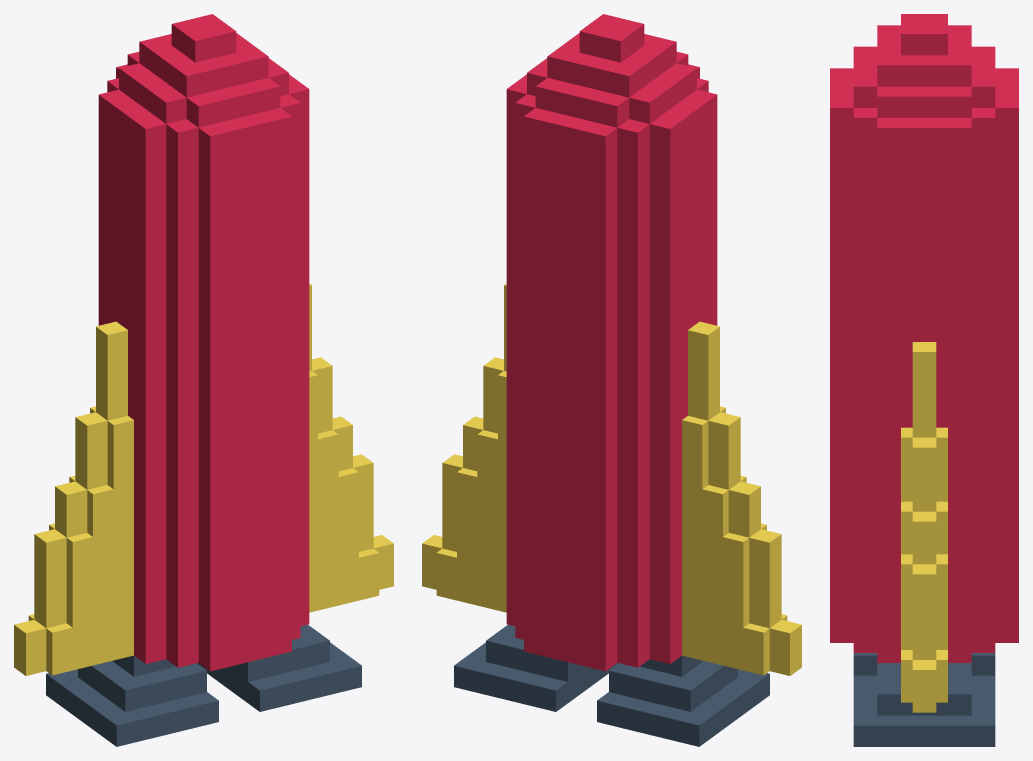
Rendered from rocket_2.fbx.
3 renders of one model, left to right at view 1: azimuth 30°, elevation 25°; view 2: azimuth 150°, elevation 25°; view 3: azimuth 270°, elevation 25°, orthographic.
Parts seen in each view (by area): view 1: generated; view 2: generated; view 3: generated.
Boxes of the visible parts, bbox=[...] form: generated: bbox=[14, 14, 393, 746]; generated: bbox=[422, 14, 801, 746]; generated: bbox=[830, 14, 1018, 746].
Size of the model in its own units: 180 by 310 by 80.
